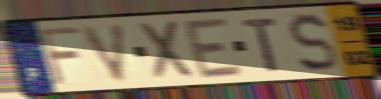E: (181, 15, 247, 82)
F: (37, 25, 85, 88)
S: (285, 11, 340, 75)
T: (240, 16, 282, 74)
V: (79, 21, 129, 85)
X: (136, 18, 199, 83)
